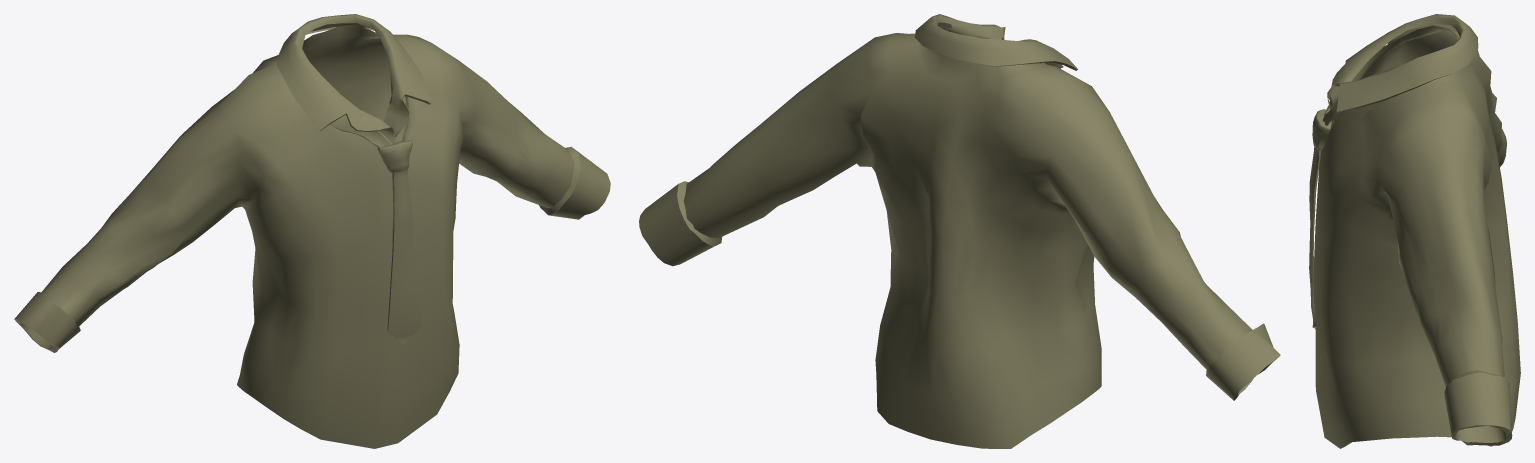
The model's file is cloth_lo.fbx.
The picture shows the model from 3 angles, left to right: view 1: azimuth 30°, elevation 25°; view 2: azimuth 150°, elevation 25°; view 3: azimuth 270°, elevation 25°; orthographic projection. The views are drawn at different scales.
Visible parts, largest first — view 1: Shirt_lo, Tie_lo; view 2: Shirt_lo; view 3: Shirt_lo, Tie_lo.
Boxes of the visible parts, <box> form: Shirt_lo: <box>14,14,610,448</box>; Tie_lo: <box>329,96,421,343</box>; Shirt_lo: <box>639,14,1280,448</box>; Shirt_lo: <box>1313,14,1520,448</box>; Tie_lo: <box>1309,104,1344,328</box>.
Bounding box in the file's own units: 90.74 × 55.72 × 26.54.
